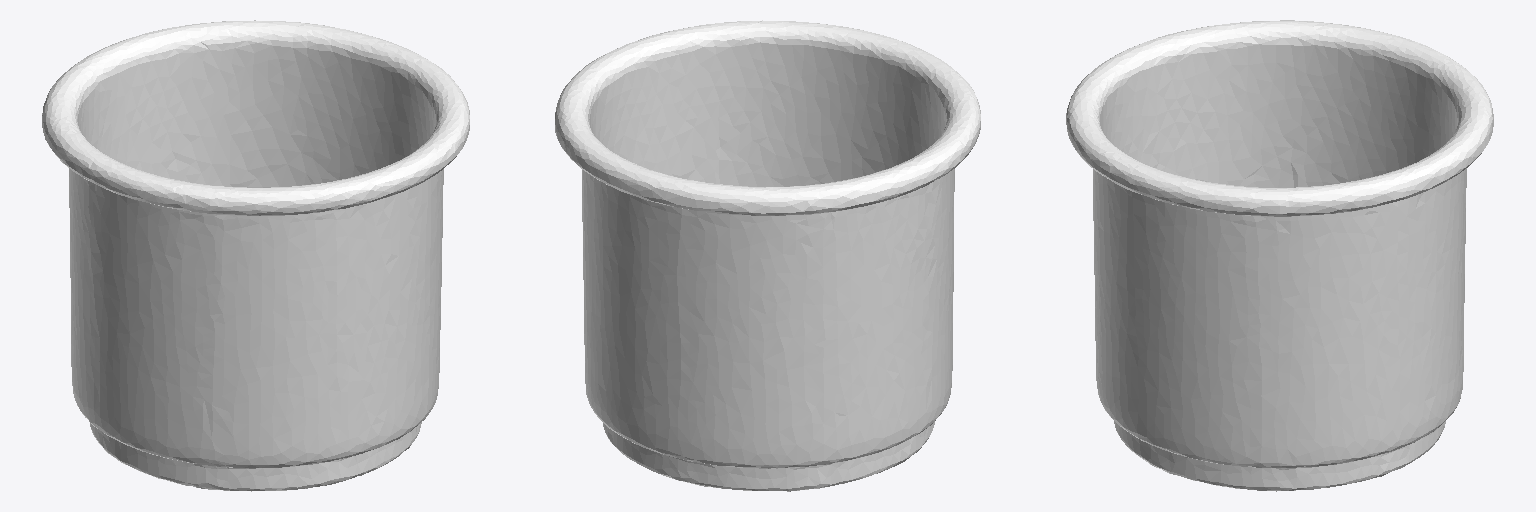
robot.urdf — 038_padlock:
<robot name="038_padlock">
	<link name="_name">
		<visual>
			<origin xyz="0.1707606691752894 -0.09517389002211321 -0.13626341524550545" rpy="0 0 0" />
			<geometry>
				<mesh filename="038_padlock/google_16k/textured.obj" scale="10 10 10" />
			</geometry>
			<material name="texture">
				<color rgba="1.0 1.0 1.0 1.0" />
			</material>
		</visual>
		<collision>
			<geometry>
				<mesh filename="038_padlock/google_16k/textured_vhacd.obj" scale="10 10 10" />
			</geometry>
		<origin xyz="0.1707606691752894 -0.09517389002211321 -0.13626341524550545" rpy="0 0 0" /></collision>
		<inertial>
			<mass value="1.0" />
			<inertia ixx="1.0" ixy="0.0" ixz="0.0" iyy="1.0" iyz="0.0" izz="1.0" />
		</inertial>
	</link>
</robot>

--- What the picture shows (computed from the rendered views, not written in the file) ---
The picture shows the robot from 3 angles, left to right: view 1: azimuth 30°, elevation 25°; view 2: azimuth 150°, elevation 25°; view 3: azimuth 270°, elevation 25°; orthographic projection.
Model 038_padlock with 1 links and 0 joints (none), rooted at _name, posed every joint at zero.
Visible links, largest first — view 1: _name; view 2: _name; view 3: _name.
Boxes of the visible links, x1,y1,x2,y2 form: _name: (42, 20, 469, 491); _name: (555, 20, 980, 491); _name: (1066, 20, 1493, 491).
Bounding box of the posed robot: 0.915 × 0.9162 × 0.7506 m (x, y, z).
1 mesh visuals loaded from 1 distinct referenced files (1 OBJ).